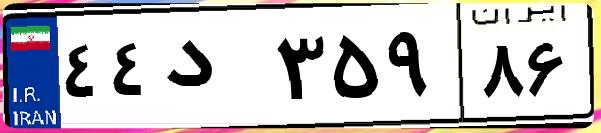3: (270, 28, 330, 110)
4: (57, 26, 110, 100), (110, 28, 158, 98)
5: (330, 28, 385, 110)
6: (525, 38, 570, 115)
8: (475, 38, 525, 113)
9: (385, 28, 445, 110)
د: (158, 20, 270, 120)
